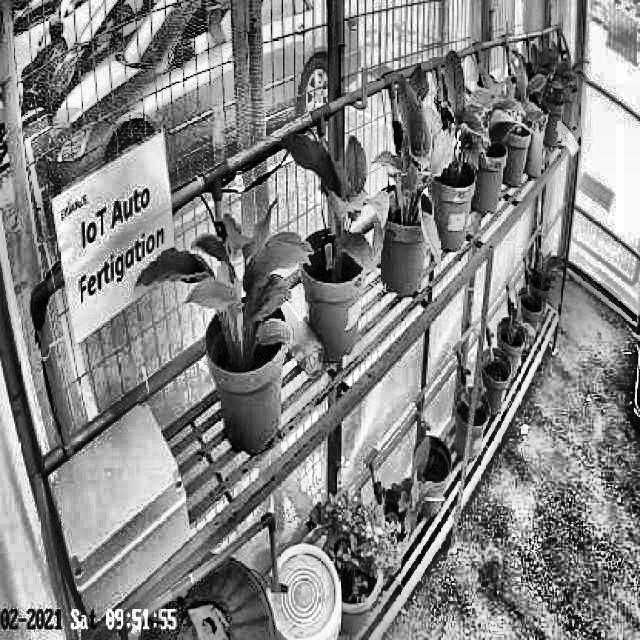plants: (132, 194, 316, 368), (280, 128, 388, 282), (374, 64, 448, 276), (428, 45, 502, 182)
